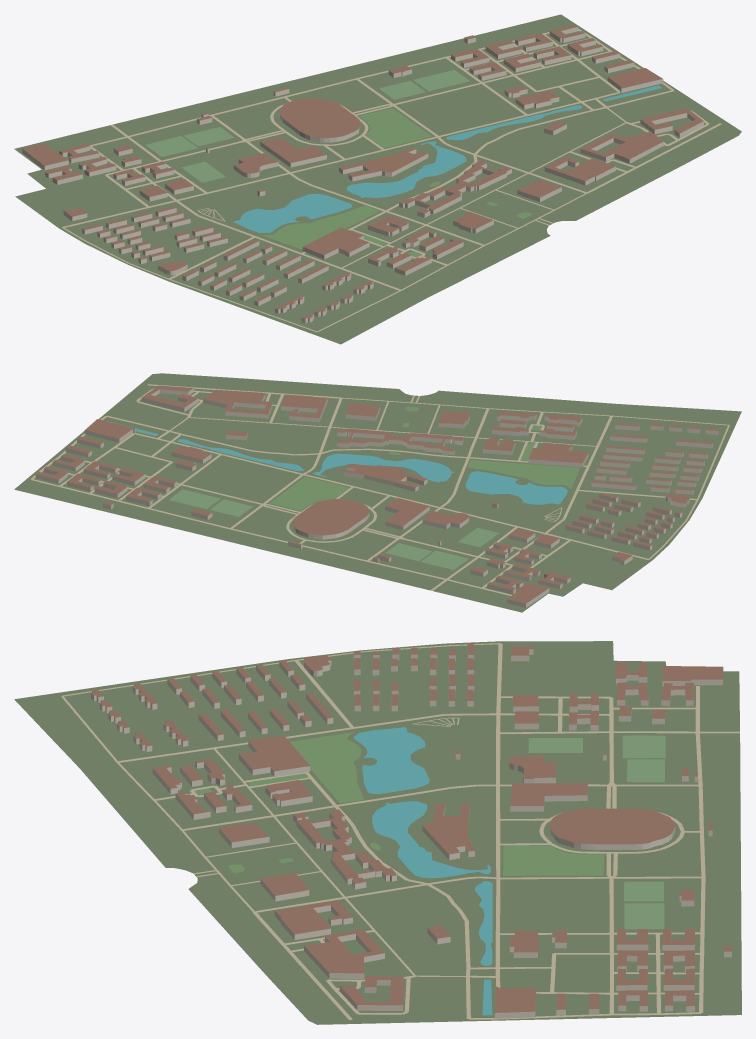
The picture shows the model from 3 angles, top to bottom: view 1: azimuth 30°, elevation 25°; view 2: azimuth 150°, elevation 25°; view 3: azimuth 270°, elevation 25°; orthographic projection. The views are drawn at different scales.
Parts seen in each view (by area): view 1: campus-ground, environment (×4), roofs, buildings; view 2: campus-ground, environment (×4), roofs, buildings; view 3: campus-ground, environment (×4), roofs, buildings.
Boxes of the visible parts, x1=… form: campus-ground: x1=14, y1=14, x2=741, y2=344; environment (×4): x1=62, y1=28, x2=721, y2=332; roofs: x1=22, y1=24, x2=703, y2=318; buildings: x1=22, y1=27, x2=703, y2=323; campus-ground: x1=14, y1=373, x2=741, y2=612; environment (×4): x1=30, y1=384, x2=729, y2=595; roofs: x1=36, y1=385, x2=718, y2=603; buildings: x1=35, y1=388, x2=718, y2=607; campus-ground: x1=14, y1=641, x2=741, y2=1024; environment (×4): x1=61, y1=643, x2=739, y2=1020; roofs: x1=91, y1=643, x2=731, y2=1012; buildings: x1=91, y1=647, x2=731, y2=1018.
Bounding box in the file's own units: 1737 × 12.2 × 1393.
